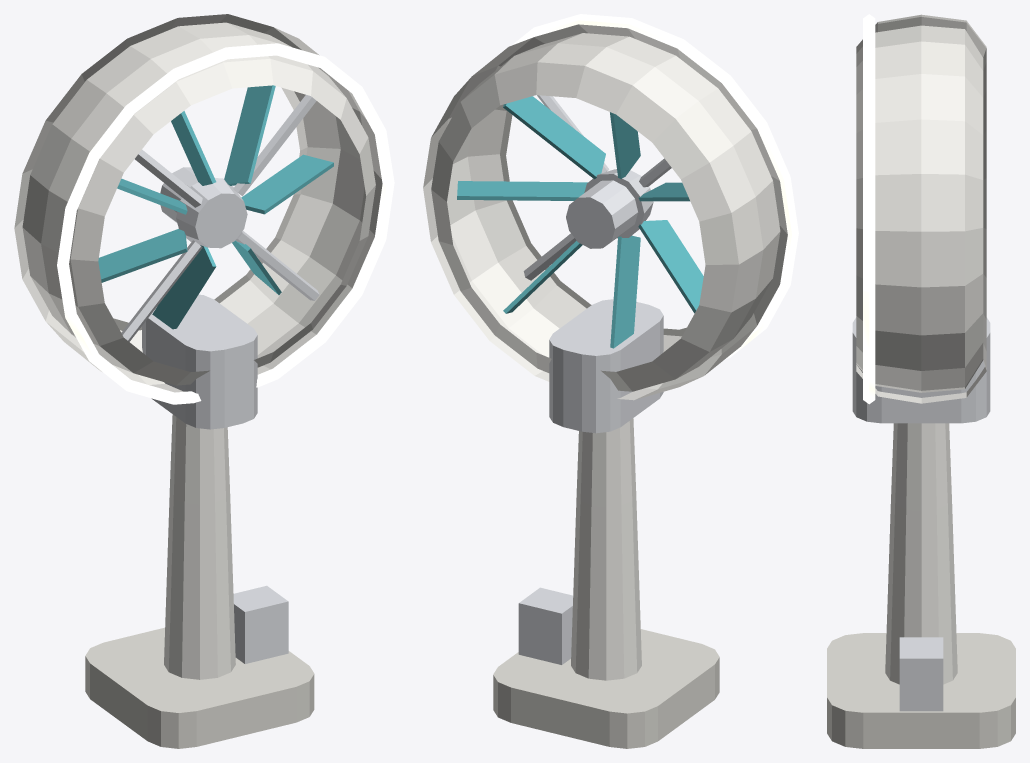
The model's file is arcology-towers-and-skyways-ring-turbine-b2da6d18__23277.glb.
3 views of the same model, side by side, from view 1: azimuth 30°, elevation 25°; view 2: azimuth 150°, elevation 25°; view 3: azimuth 270°, elevation 25° (orthographic). The views are drawn at different scales.
Parts seen in each view (by area): view 1: ring-turbine, rotor; view 2: ring-turbine, rotor; view 3: ring-turbine.
Boxes of the visible parts, x1=… form: ring-turbine: x1=14, y1=14, x2=394, y2=748; rotor: x1=98, y1=85, x2=333, y2=329; ring-turbine: x1=423, y1=14, x2=798, y2=748; rotor: x1=457, y1=96, x2=703, y2=348; ring-turbine: x1=827, y1=14, x2=1015, y2=748.
Size of the model in its own units: 5.42 by 10.31 by 2.6.
